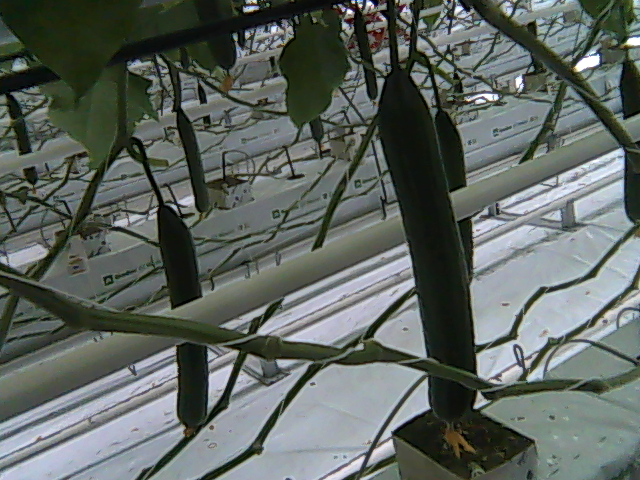concombre: (374, 60, 481, 459)
